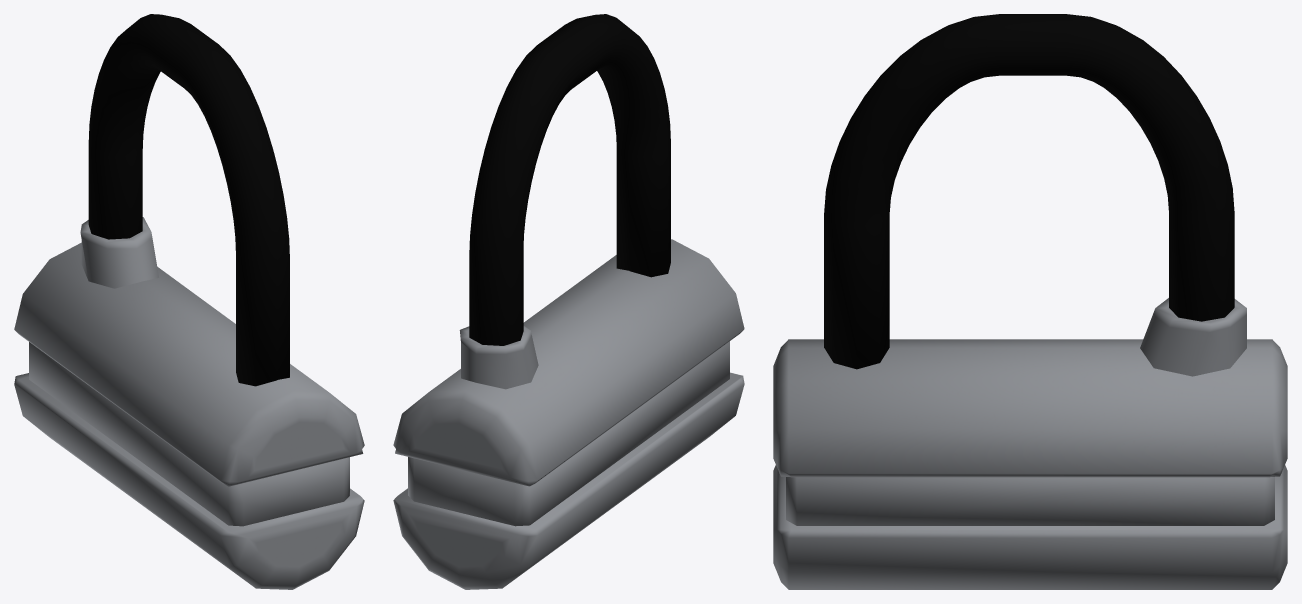
Rendered from CombinationLock.glb.
3 renders of one model, left to right at view 1: azimuth 30°, elevation 25°; view 2: azimuth 150°, elevation 25°; view 3: azimuth 270°, elevation 25°, orthographic. The views are drawn at different scales.
Visible parts, largest first — view 1: hoop metal lock, hoop metal lock.001; view 2: hoop metal lock, hoop metal lock.001; view 3: hoop metal lock, hoop metal lock.001.
Part boxes in pixels (x1=…): hoop metal lock: x1=14, y1=217, x2=364, y2=589; hoop metal lock.001: x1=88, y1=14, x2=289, y2=386; hoop metal lock: x1=393, y1=239, x2=744, y2=589; hoop metal lock.001: x1=469, y1=14, x2=670, y2=345; hoop metal lock: x1=773, y1=298, x2=1287, y2=589; hoop metal lock.001: x1=824, y1=14, x2=1234, y2=369.
Size of the model in its own units: 1.97 by 6.29 by 5.19.
1 material, 1 textured.
